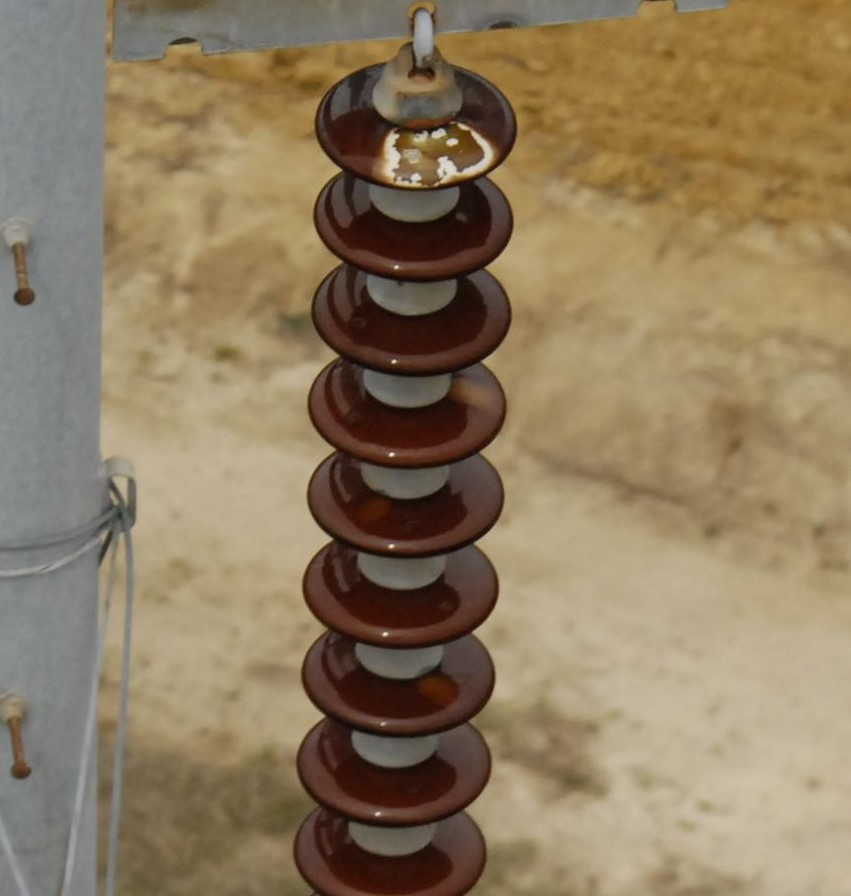Insulator flashover: (310, 50, 519, 190)
